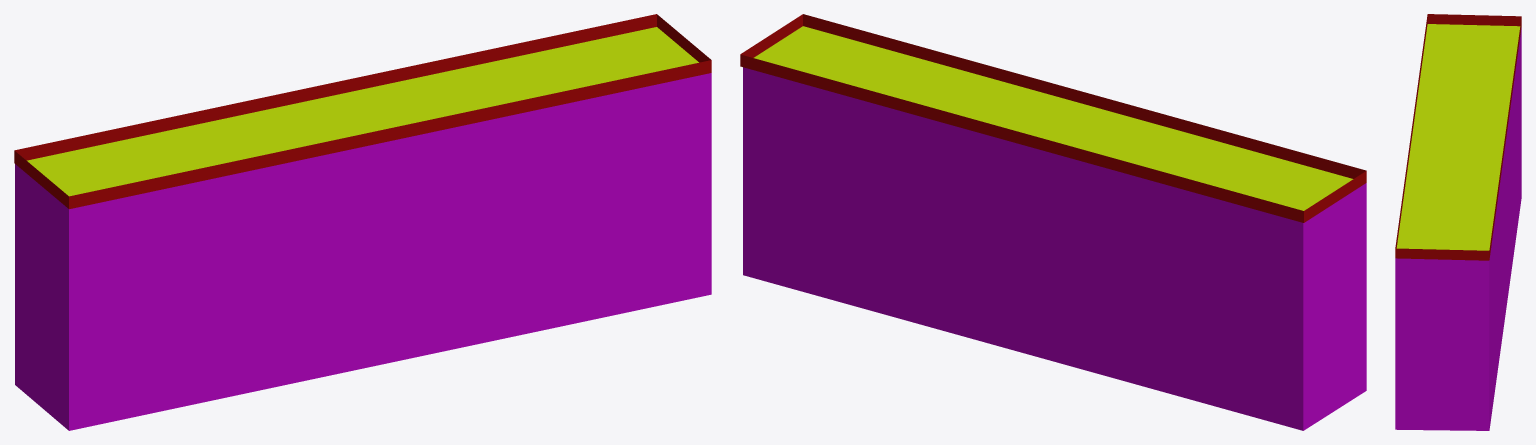
3 views of the same model, side by side, from view 1: azimuth 30°, elevation 25°; view 2: azimuth 150°, elevation 25°; view 3: azimuth 270°, elevation 25° (orthographic). The views are drawn at different scales.
Parts seen in each view (by area): view 1: sc_57; view 2: sc_57; view 3: sc_57.
Part boxes in pixels (left/top/right/bottom): sc_57: left=14, top=14, right=711, bottom=430; sc_57: left=740, top=14, right=1366, bottom=430; sc_57: left=1395, top=14, right=1521, bottom=430.
Size of the model in its own units: 17.85 by 6.37 by 4.03.
